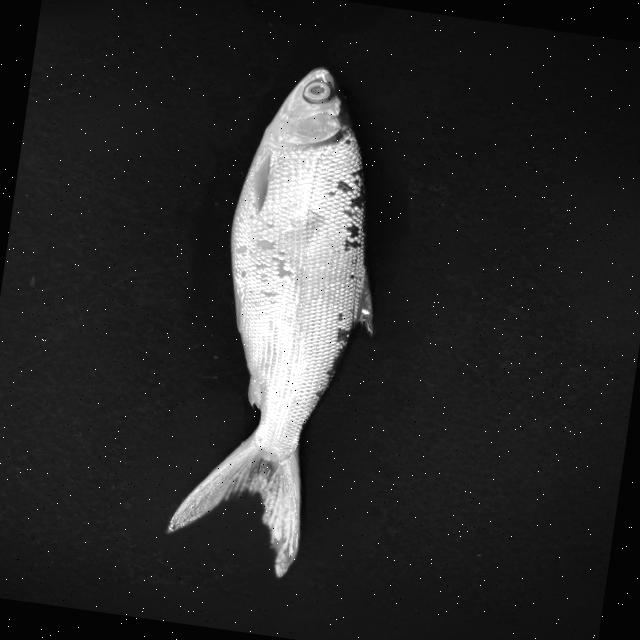700 g: (164, 53, 410, 586)
